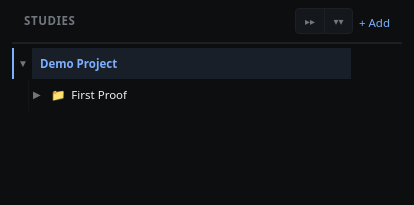
Scenario: StudyList file tree › starts with folders collapsed and supports expanding or collapsing all folders
Expected: the text "Demo Project" is shown, [40,56,117,71]
Expected: the text "First Proof" is shown, [71,87,127,103]
Click the button named "Expand all folders". click: (338, 21)
box: [324,9,352,33]
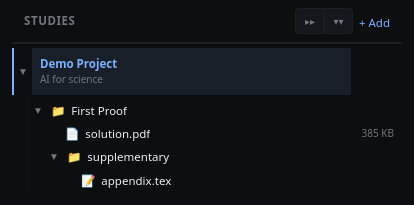
Now the text "solution.pdf" is shown, box [85,126,150,141]
Now the text "appendix.tex" is shown, box [101,173,171,188]
Click the button named "Collapse all folders". click: (310, 21)
box: [296,9,324,33]
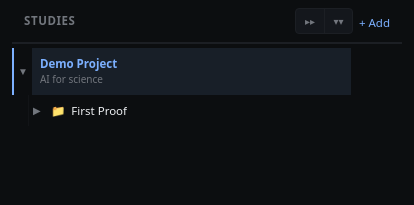
Now the button "solution.pdf" is gone
Now the button "appendix.tex" is gone
